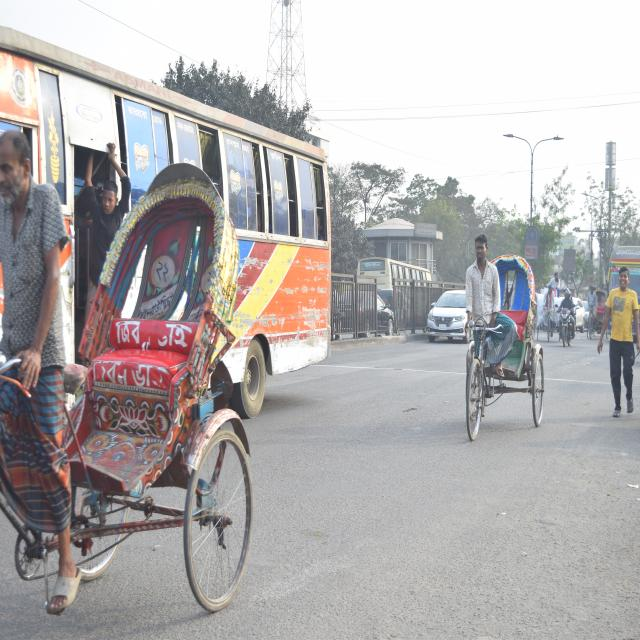bus: (0, 11, 337, 439), (360, 247, 432, 302)
car: (431, 288, 474, 347)
motorbike: (552, 290, 578, 346)
